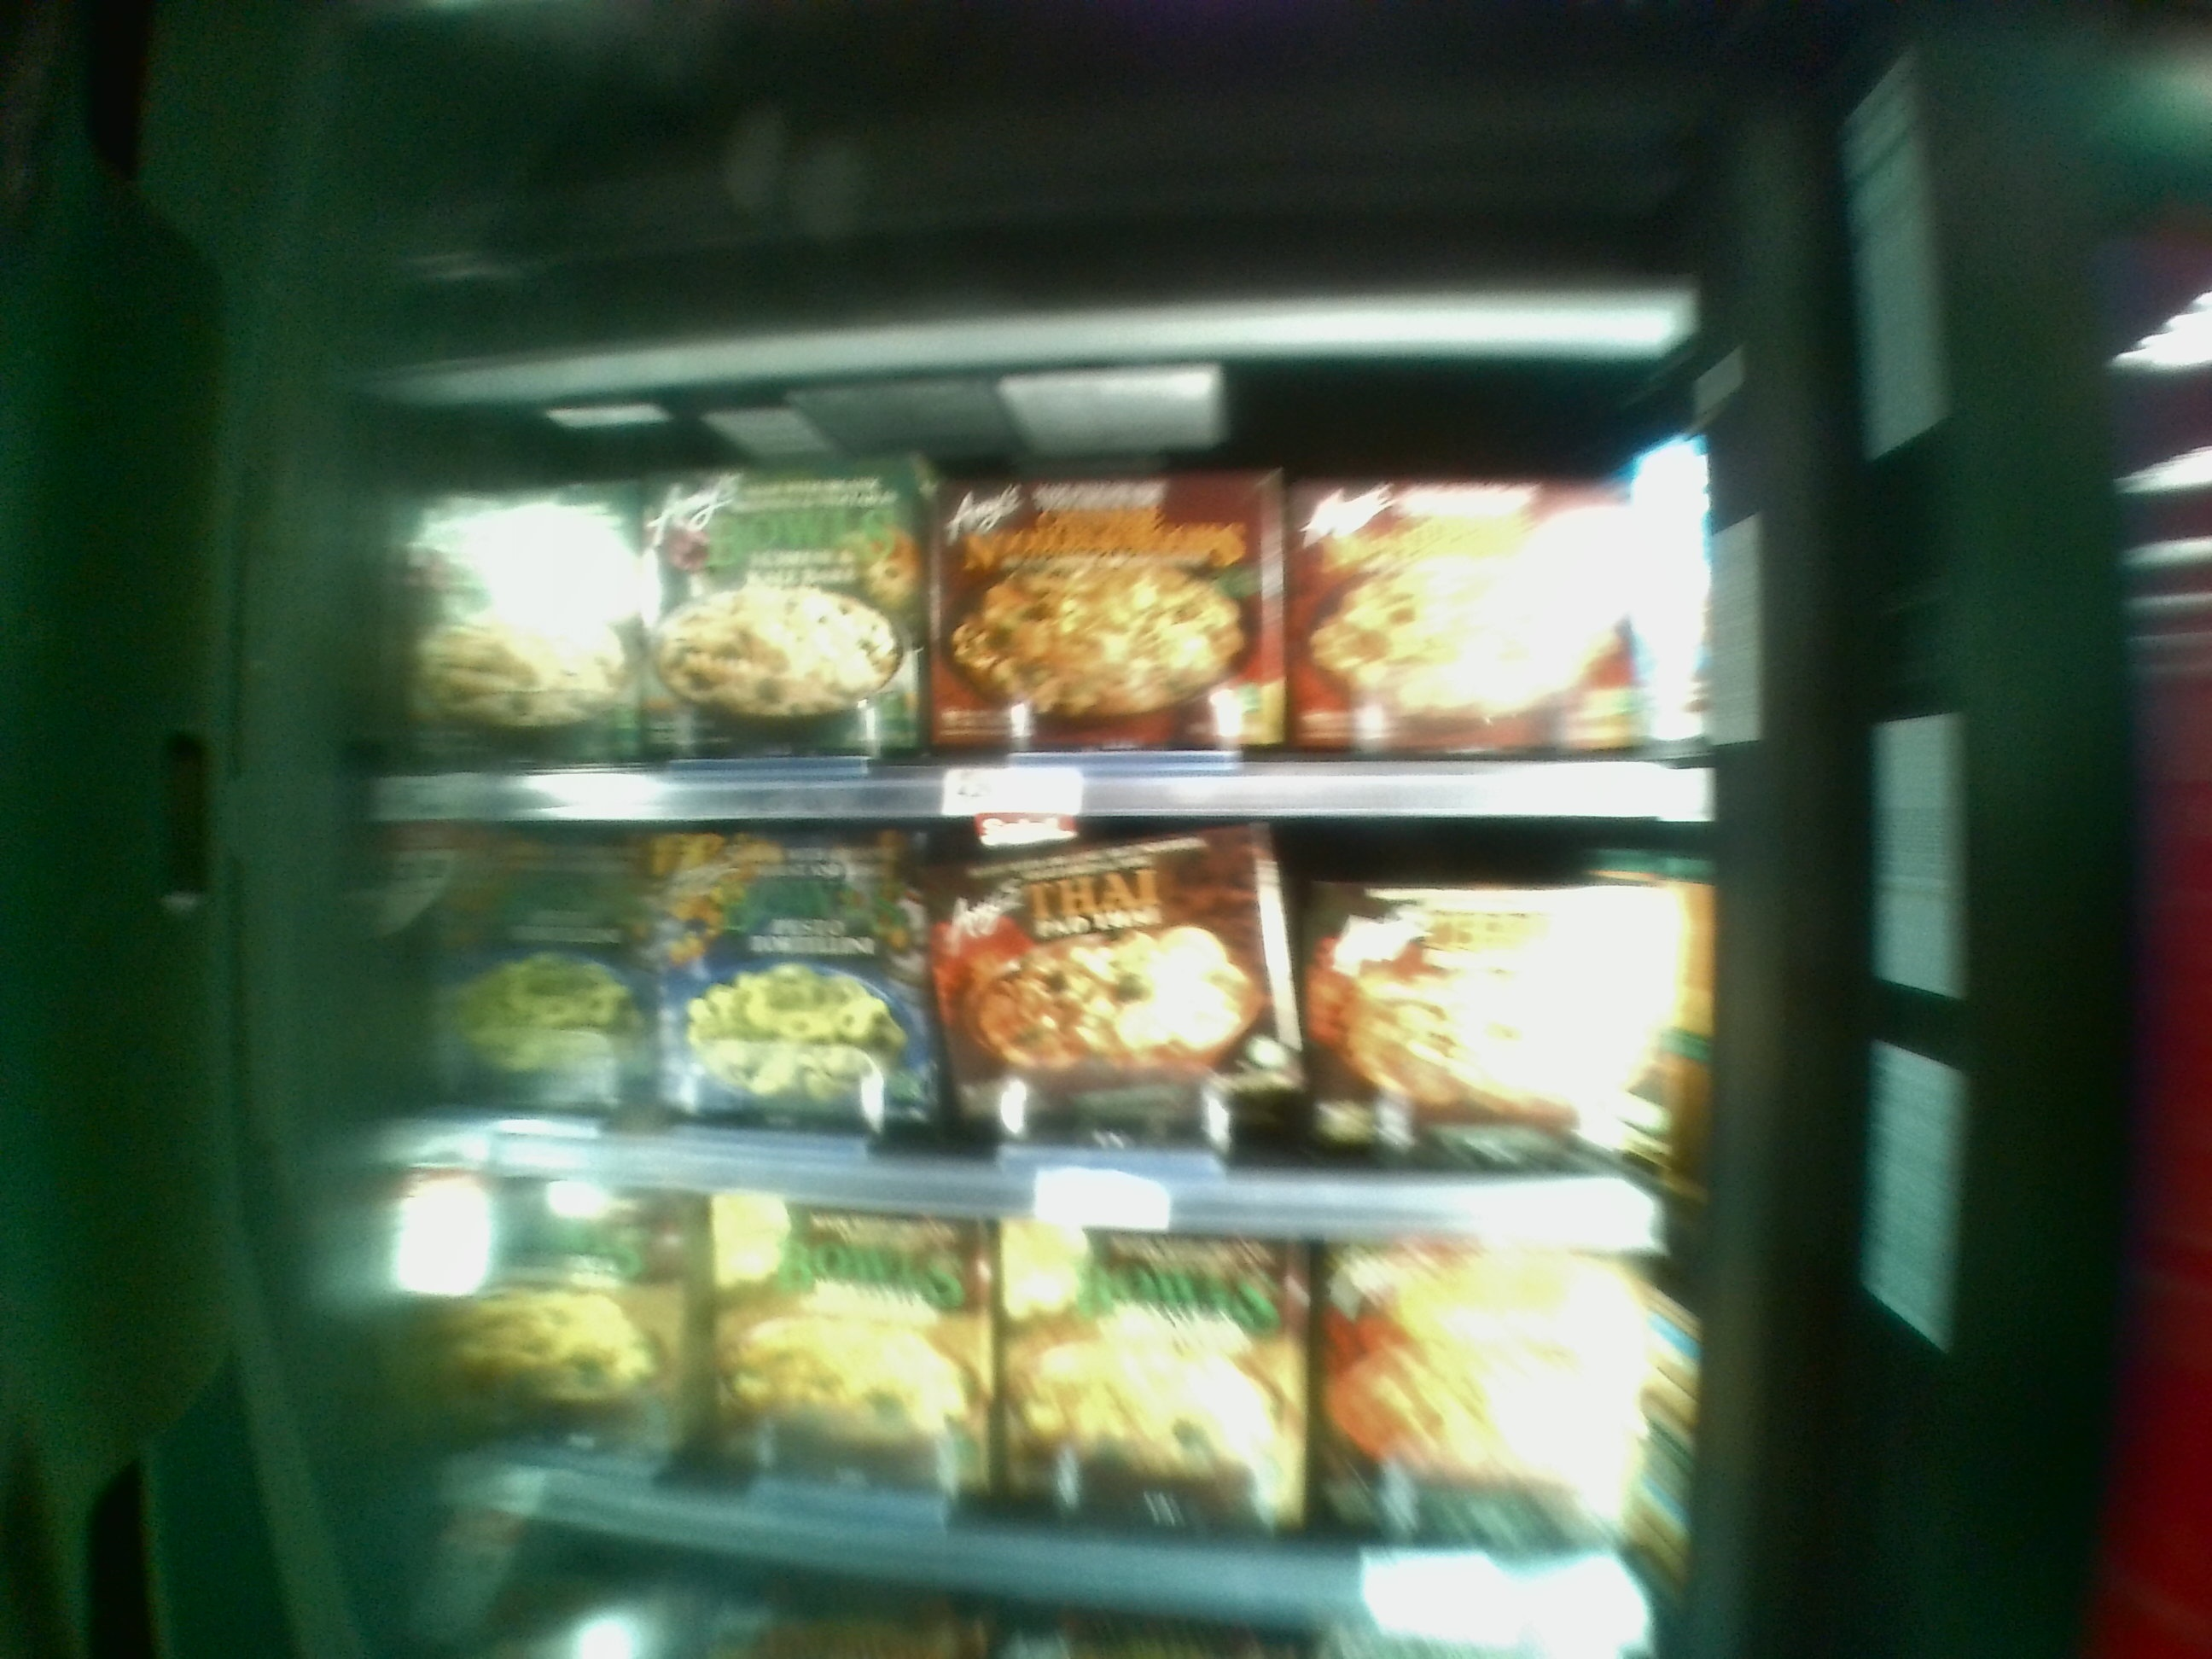shelf: (359, 373, 1714, 821), (399, 1194, 1679, 1633), (380, 828, 1696, 1232)
